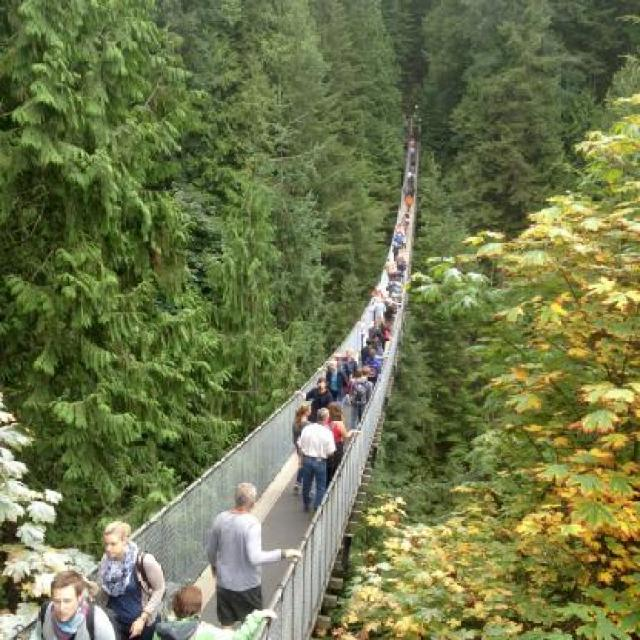sem_oculos: (50, 589, 82, 607), (101, 532, 129, 548)
